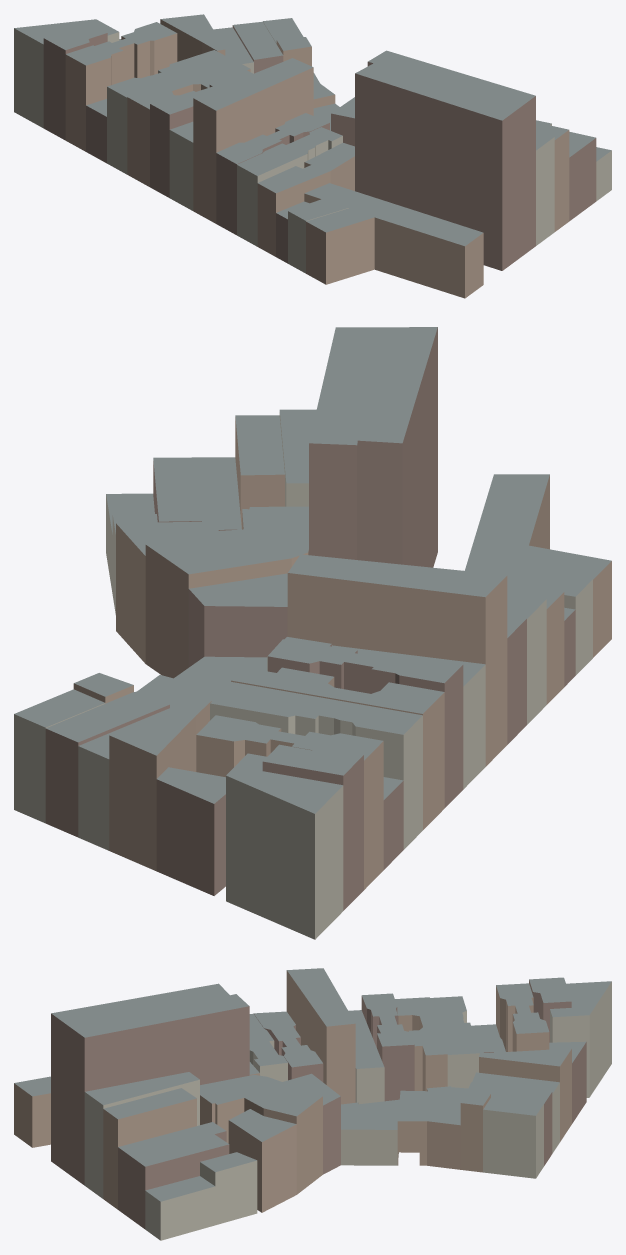
The picture shows the model from 3 angles, top to bottom: view 1: azimuth 30°, elevation 25°; view 2: azimuth 150°, elevation 25°; view 3: azimuth 270°, elevation 25°; orthographic projection. The views are drawn at different scales.
Parts seen in each view (by area): view 1: C2; view 2: C2; view 3: C2.
Part boxes in pixels (left/top/right/bottom): C2: left=14, top=14, right=611, bottom=298; C2: left=14, top=327, right=611, bottom=939; C2: left=14, top=968, right=611, bottom=1240.
Bounding box in the file's own units: 89.9 × 35.05 × 128.
